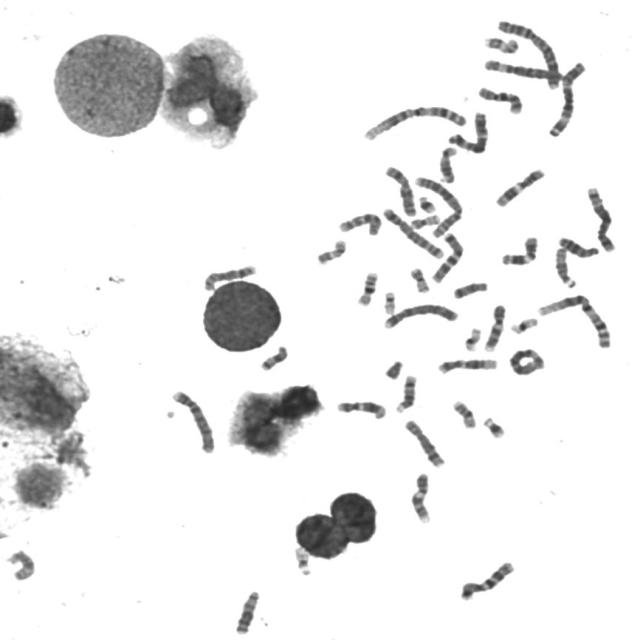A1: (533, 290, 614, 350), (359, 101, 469, 143)
A2: (494, 16, 562, 90), (411, 173, 465, 239)
A3: (544, 59, 588, 139), (446, 109, 490, 154)
B4: (168, 387, 217, 455), (380, 300, 459, 330)
B5: (379, 204, 446, 260), (583, 184, 618, 253)
C10: (475, 84, 523, 115), (335, 209, 383, 237)
C11: (492, 165, 547, 209), (498, 233, 540, 267)
C12: (434, 355, 499, 376), (333, 397, 387, 421)
C6: (481, 55, 563, 85), (506, 346, 546, 377)
C7: (456, 558, 516, 602), (428, 229, 466, 284)
C8: (401, 417, 446, 469), (200, 261, 258, 293)
C9: (481, 302, 507, 353), (409, 471, 433, 525)
D13: (232, 587, 261, 635), (555, 234, 600, 259)
D14: (392, 372, 419, 414), (436, 144, 458, 184)
D15: (552, 244, 578, 290), (4, 546, 37, 582)
E16: (354, 268, 379, 308), (450, 397, 478, 429)
E17: (313, 236, 348, 266), (482, 33, 520, 55)
E18: (257, 343, 289, 372), (450, 279, 490, 301)
F19: (507, 314, 540, 336), (461, 324, 483, 352)
F20: (408, 265, 431, 294), (407, 212, 441, 230)
G21: (480, 414, 508, 440), (416, 193, 438, 214)
G22: (291, 543, 313, 577), (380, 288, 398, 315)
X: (382, 163, 418, 218)
Y: (382, 358, 404, 380)
